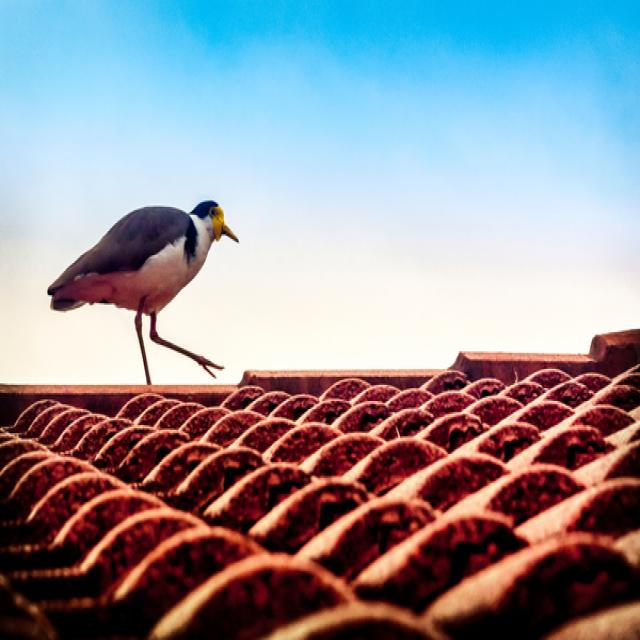bird: (46, 198, 240, 384)
